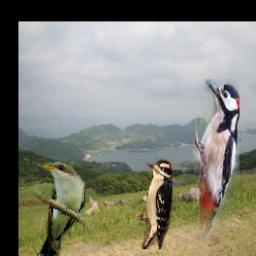Cuckoo: (35, 163, 85, 256)
Woodpecker: (193, 80, 240, 256), (136, 158, 174, 250)
